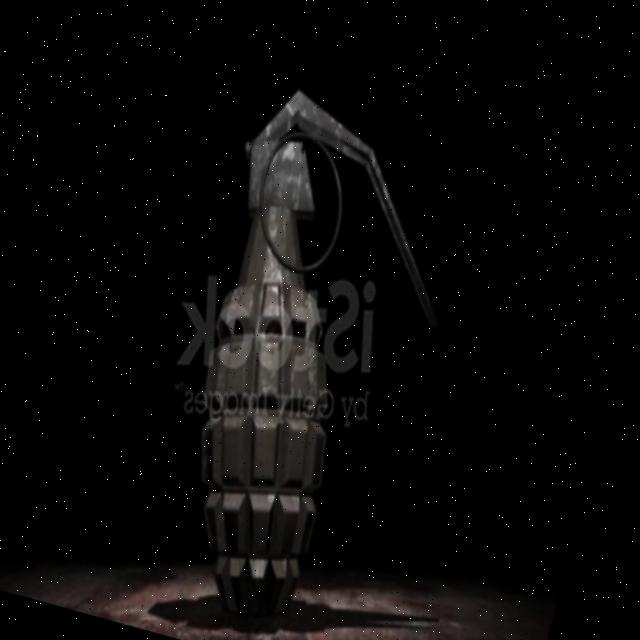grenade: (75, 30, 562, 640)
